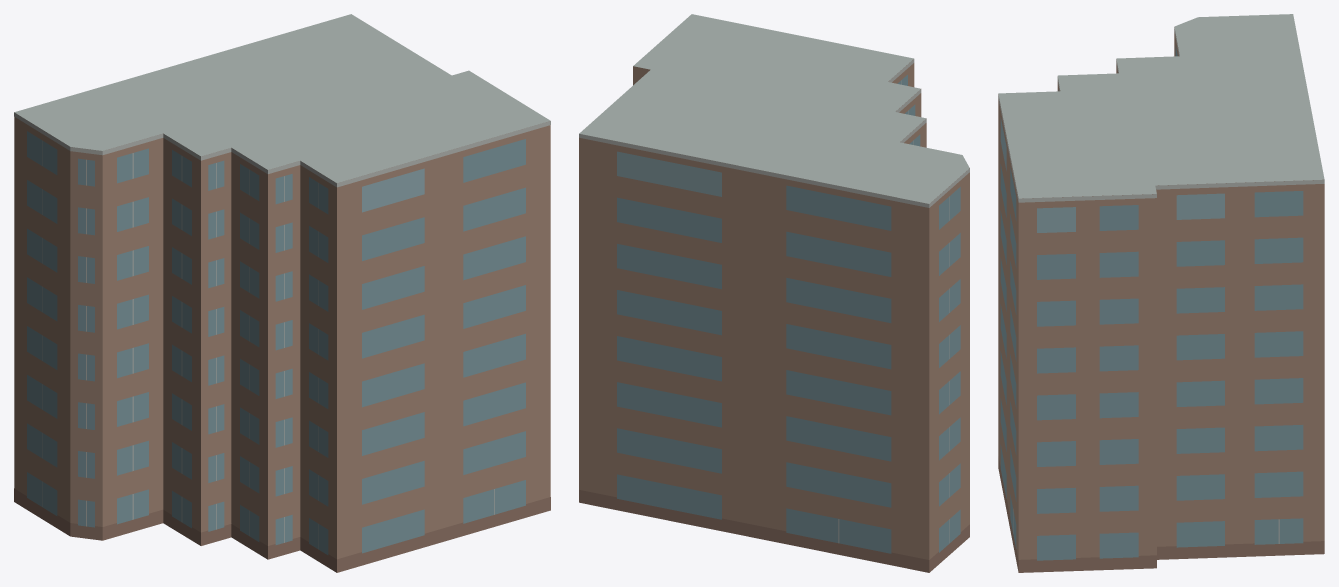
The model's file is survey-upis-32749280.glb.
The picture shows the model from 3 angles, left to right: view 1: azimuth 30°, elevation 25°; view 2: azimuth 150°, elevation 25°; view 3: azimuth 270°, elevation 25°; orthographic projection. The views are drawn at different scales.
Visible parts, largest first — view 1: survey-upis-32749280.tmp; view 2: survey-upis-32749280.tmp; view 3: survey-upis-32749280.tmp.
Part boxes in pixels (x1,y1,x2,y2): survey-upis-32749280.tmp: (14, 14, 550, 572); survey-upis-32749280.tmp: (579, 14, 969, 572); survey-upis-32749280.tmp: (998, 14, 1324, 572).
Size of the model in its own units: 23.49 by 22.2 by 17.55.
